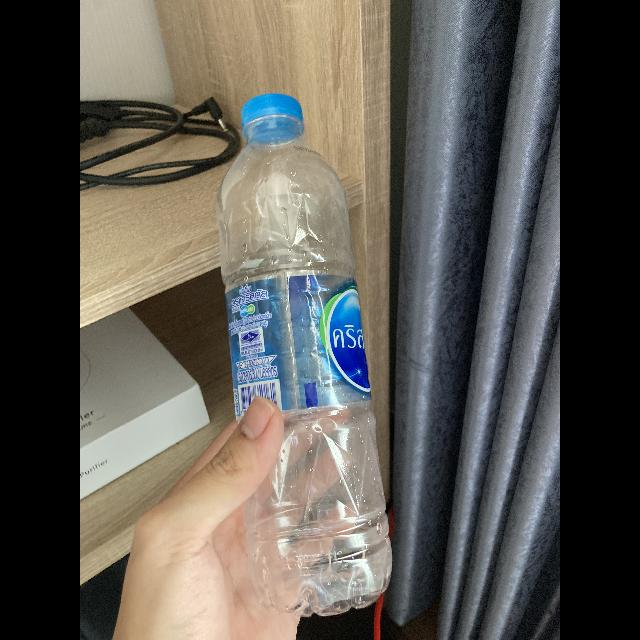plastic_bottle: (217, 75, 396, 620)
plastic_bottle_cap: (242, 92, 306, 146)
